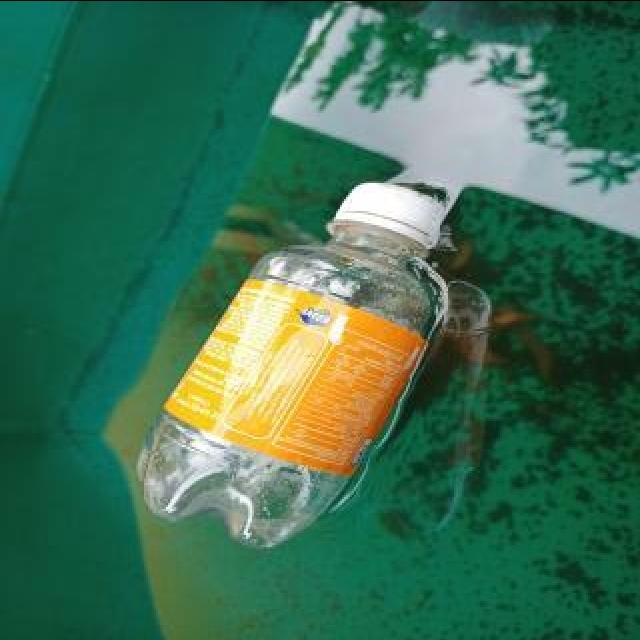Bottle: (130, 172, 458, 556)
